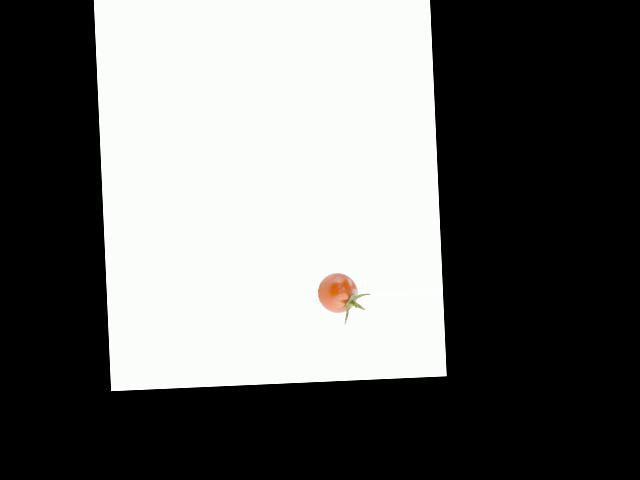tomato: (316, 271, 358, 313)
